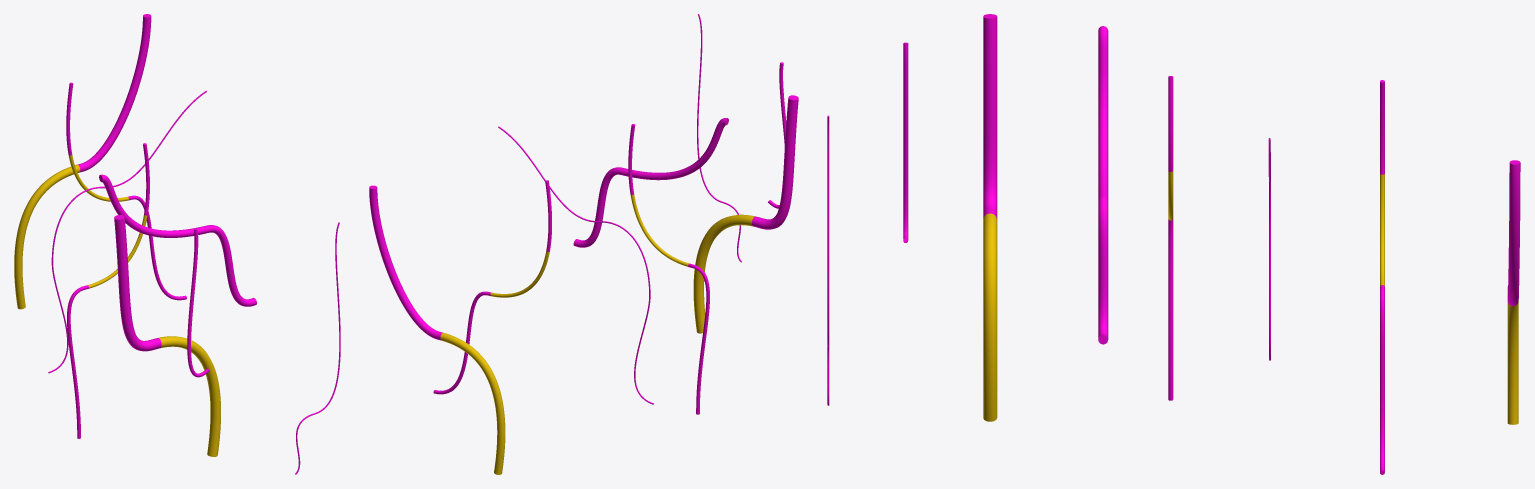
The model's file is estrella.fbx.
3 views of the same model, side by side, from view 1: azimuth 30°, elevation 25°; view 2: azimuth 150°, elevation 25°; view 3: azimuth 270°, elevation 25° (orthographic). The views are drawn at different scales.
Visible parts, largest first — view 1: BézierCurve.001, BézierCurve.005, BézierCurve.008, BézierCurve.004, BézierCurve.009, BézierCurve, BézierCurve.002, BézierCurve.006, BézierCurve.007, BézierCurve.003; view 2: BézierCurve.001, BézierCurve.005, BézierCurve.008, BézierCurve.004, BézierCurve.009, BézierCurve, BézierCurve.002, BézierCurve.006, BézierCurve.003; view 3: BézierCurve.001, BézierCurve.008, BézierCurve.005, BézierCurve.004, BézierCurve, BézierCurve.009, BézierCurve.002, BézierCurve.007, BézierCurve.003.
Part boxes in pixels (x1,y1,x2,y2): BézierCurve.001: [99, 174, 256, 306]; BézierCurve.005: [114, 215, 161, 351]; BézierCurve.008: [158, 336, 220, 456]; BézierCurve.004: [77, 14, 151, 172]; BézierCurve.009: [14, 164, 80, 309]; BézierCurve: [67, 143, 149, 438]; BézierCurve.002: [66, 82, 186, 300]; BézierCurve.006: [48, 90, 206, 373]; BézierCurve.007: [187, 228, 209, 377]; BézierCurve.003: [295, 222, 340, 474]; BézierCurve.001: [573, 118, 728, 247]; BézierCurve.005: [752, 95, 798, 229]; BézierCurve.008: [693, 214, 754, 333]; BézierCurve.004: [369, 185, 442, 340]; BézierCurve.009: [440, 332, 505, 474]; BézierCurve: [628, 124, 709, 414]; BézierCurve.002: [433, 180, 551, 394]; BézierCurve.006: [498, 126, 653, 404]; BézierCurve.003: [697, 14, 741, 262]; BézierCurve.001: [1098, 26, 1108, 344]; BézierCurve.008: [983, 213, 997, 421]; BézierCurve.005: [983, 14, 997, 219]; BézierCurve.004: [1507, 160, 1520, 306]; BézierCurve: [1168, 76, 1173, 400]; BézierCurve.009: [1507, 285, 1518, 424]; BézierCurve.002: [1380, 80, 1384, 474]; BézierCurve.007: [903, 42, 908, 242]; BézierCurve.003: [827, 115, 829, 405].
Bounding box in the file's own units: 715 × 819 × 1386.
